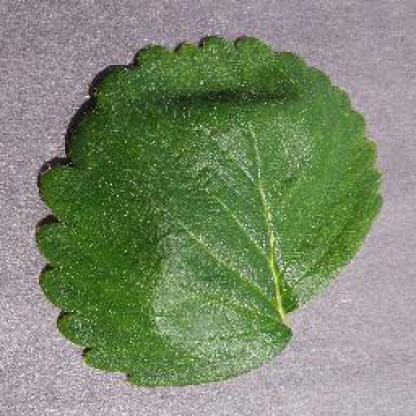healthy: (32, 25, 390, 393)
